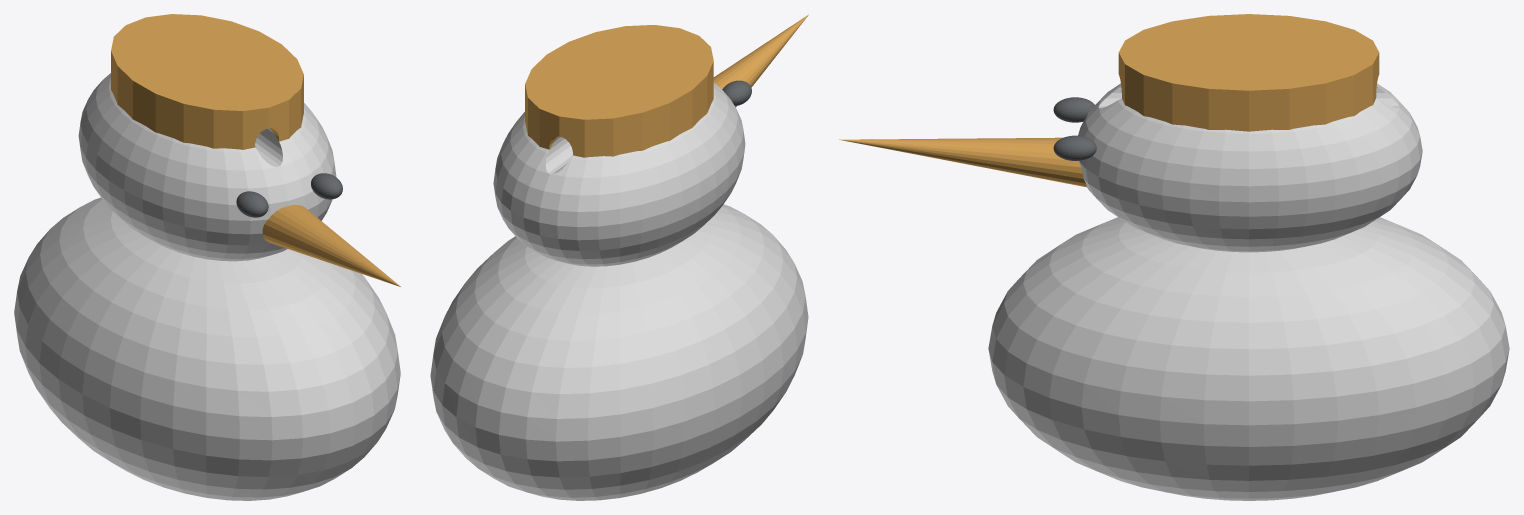
Rendered from asset.glb.
The picture shows the model from 3 angles, left to right: view 1: azimuth 30°, elevation 25°; view 2: azimuth 150°, elevation 25°; view 3: azimuth 270°, elevation 25°; orthographic projection. The views are drawn at different scales.
Visible parts, largest first — view 1: Mesh_Mesh_head_geo.001_lambert2SG.001; view 2: Mesh_Mesh_head_geo.001_lambert2SG.001; view 3: Mesh_Mesh_head_geo.001_lambert2SG.001.
Boxes of the visible parts, box(x1,y1,x2,y2) form: Mesh_Mesh_head_geo.001_lambert2SG.001: box(14, 14, 400, 500); Mesh_Mesh_head_geo.001_lambert2SG.001: box(430, 14, 808, 500); Mesh_Mesh_head_geo.001_lambert2SG.001: box(839, 14, 1509, 500).
Bounding box in the file's own units: 30 × 39 × 55.45.
